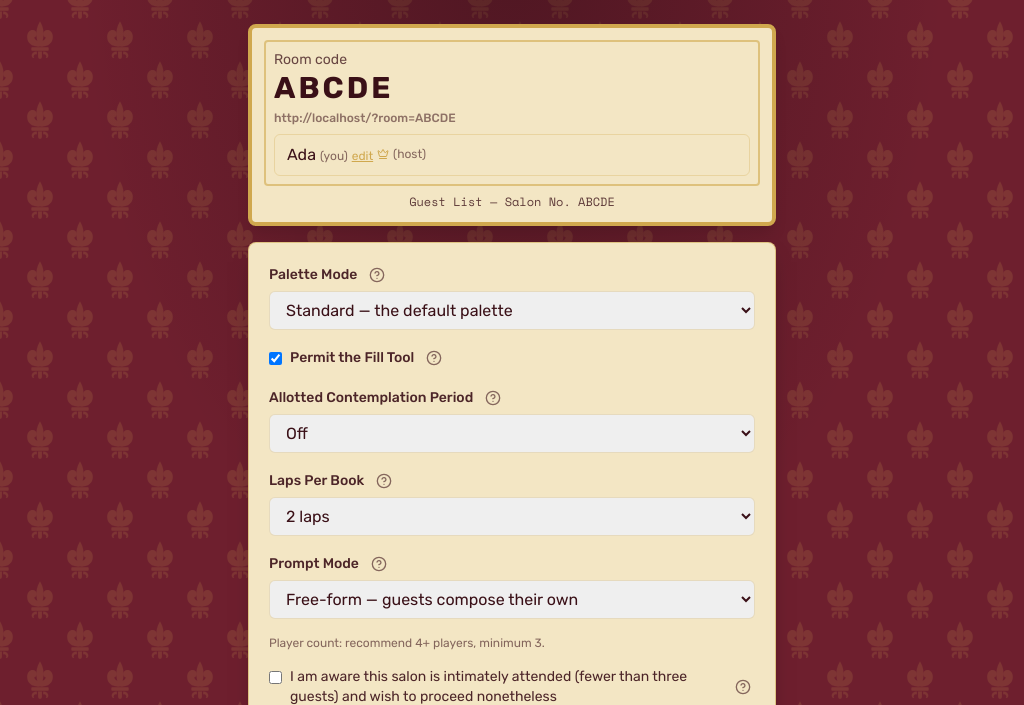
Test: Lobby prompt-mode info affordance › exposes a tooltip with a distinct accessible name that reveals the curated explanation
Click the button named "how does curated mode work". click: coordinates (379, 564)
box: [367,552,391,576]
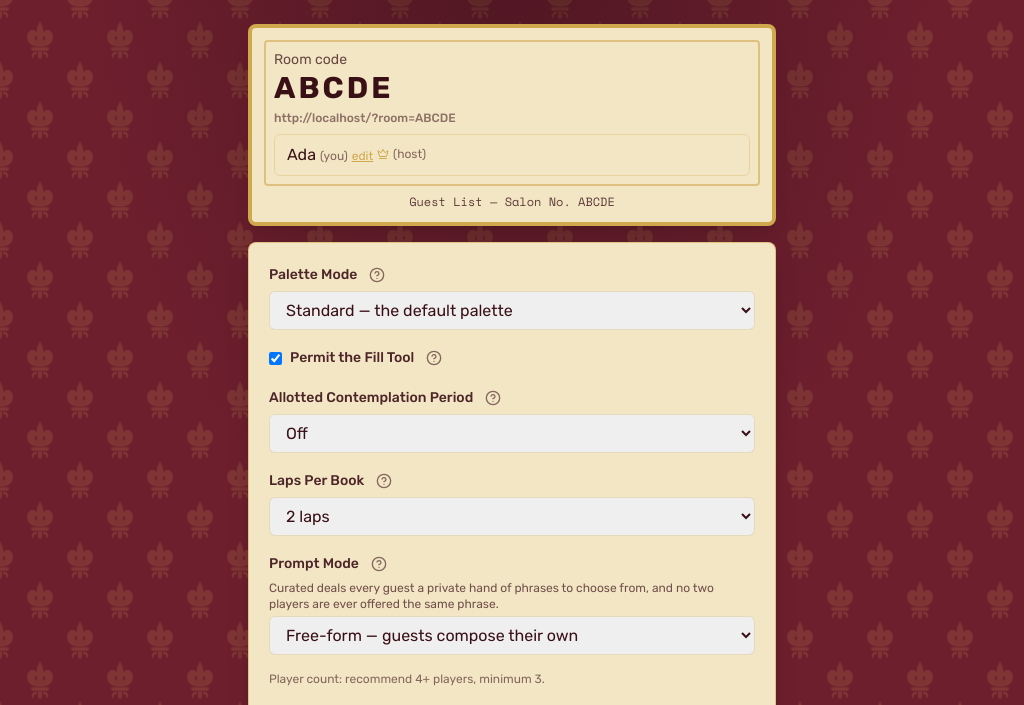
Check: the dropdown labelled "Prompt Mode" is shown, box [269,616,755,655]
Check: the text "no two players" is shown, box [269,581,714,611]
